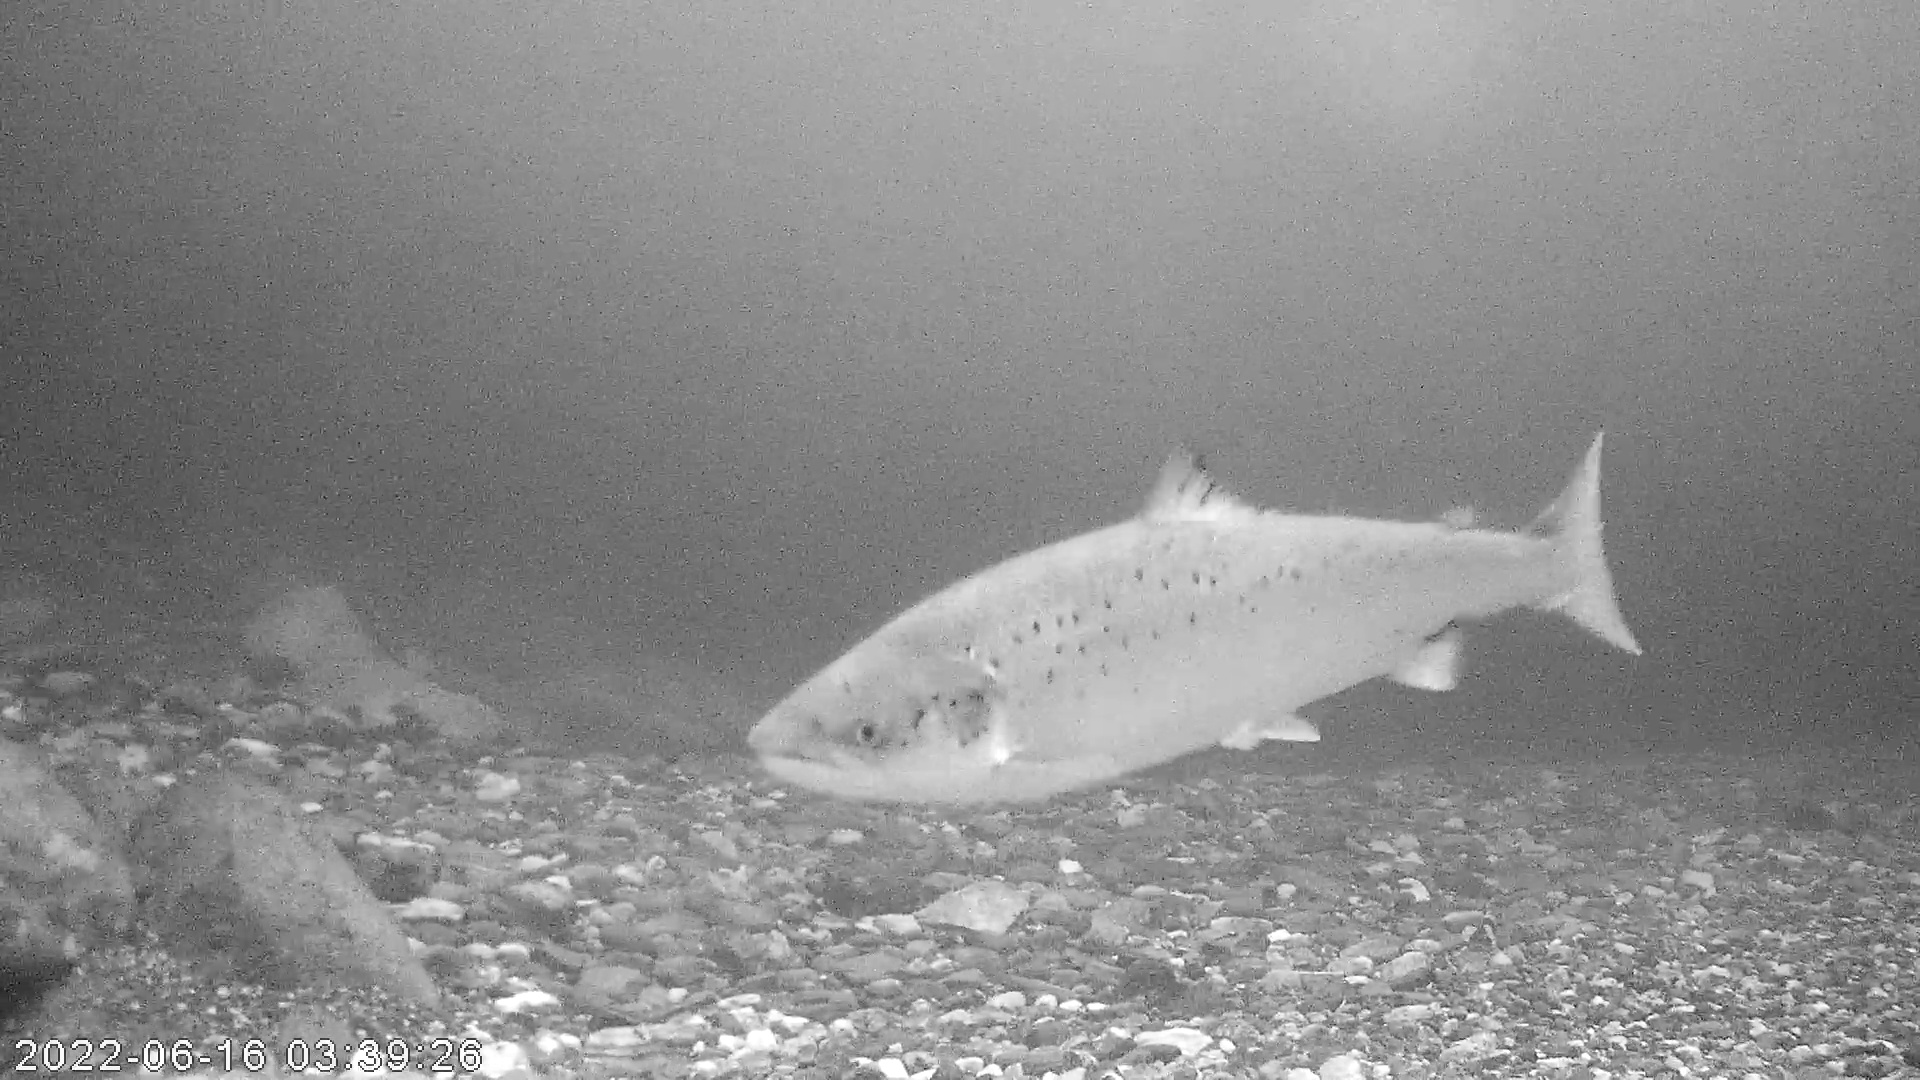salmon: (742, 427, 1644, 810)
